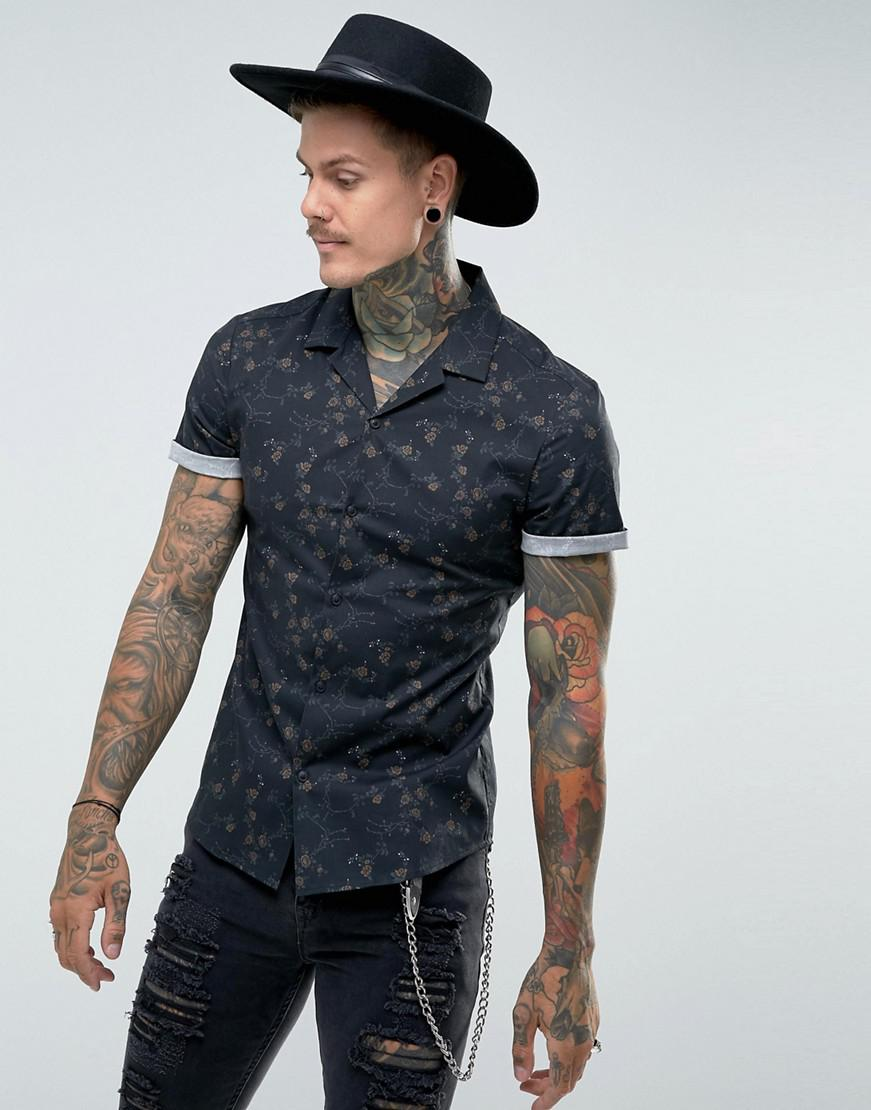teeshirt: (157, 264, 635, 929)
